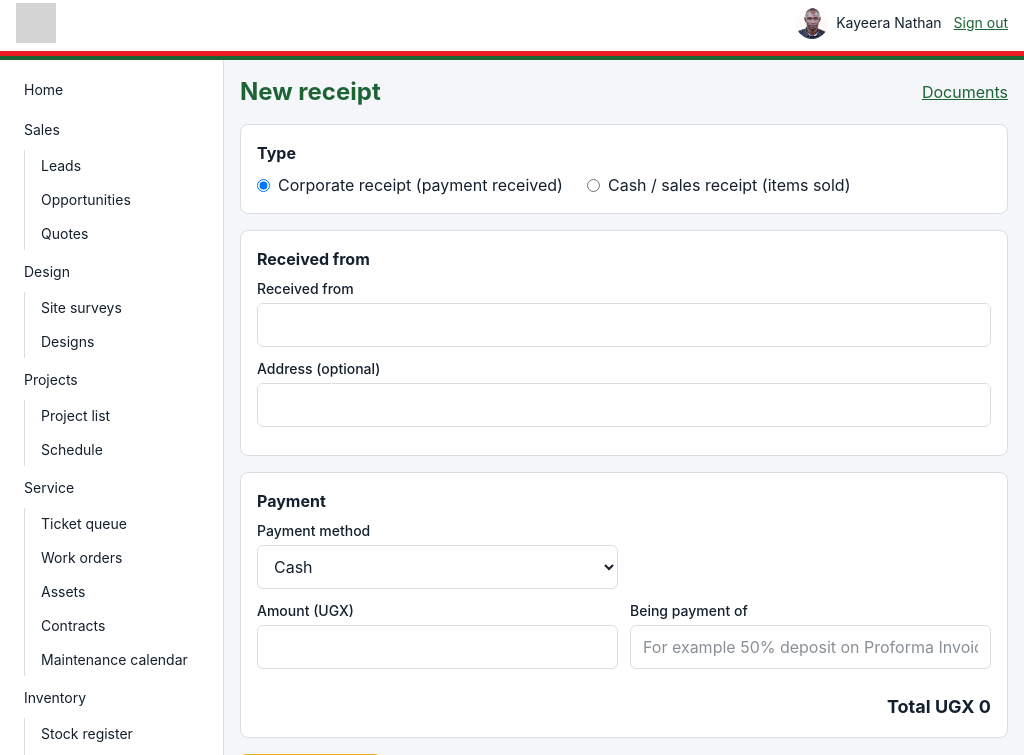
receipts › issues a cash / sales receipt with item lines and the disclaimer
Type "Walk-in customer" into the field labelled "Received from" at (624,325), box [257,303,991,347]
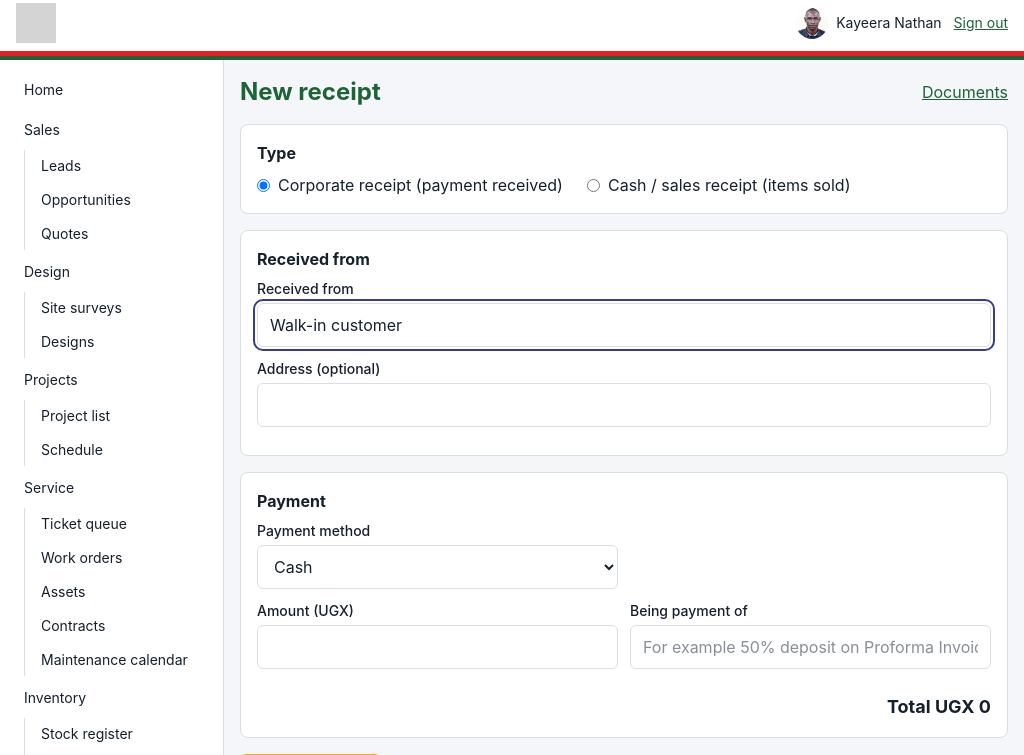
Click the radio button labelled "Cash / sales receipt (items sold)" at (594,185), box [587,178,600,192]
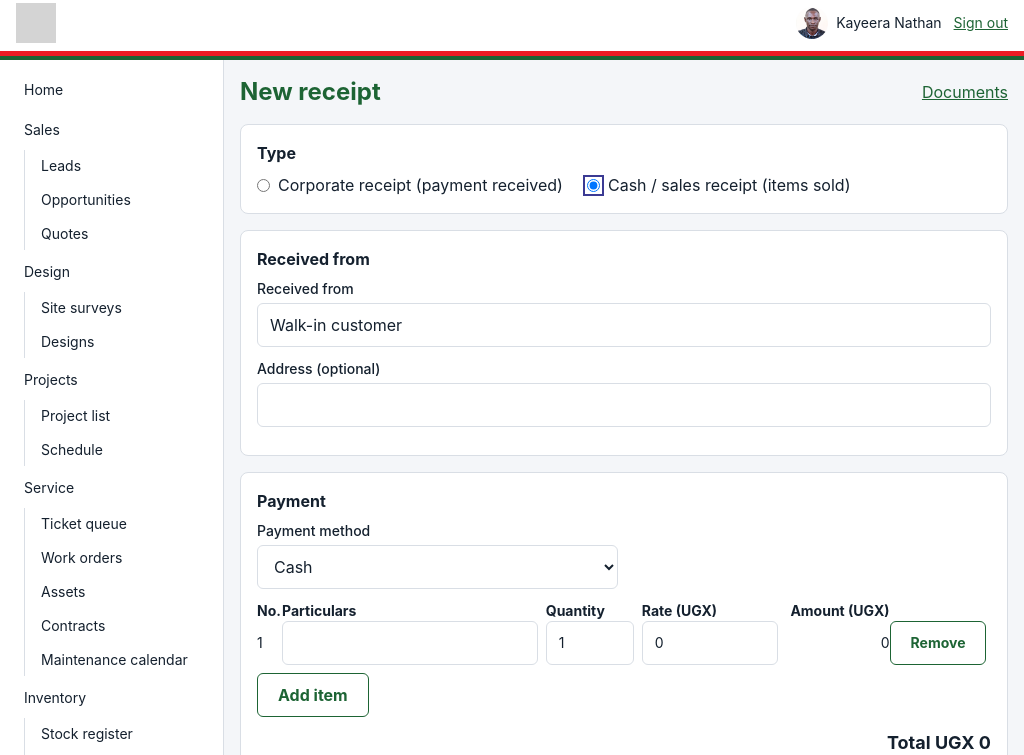
Type "MC4 connector pairs" into the field named "Item 1 particulars" at (410,643), box [282,621,538,665]
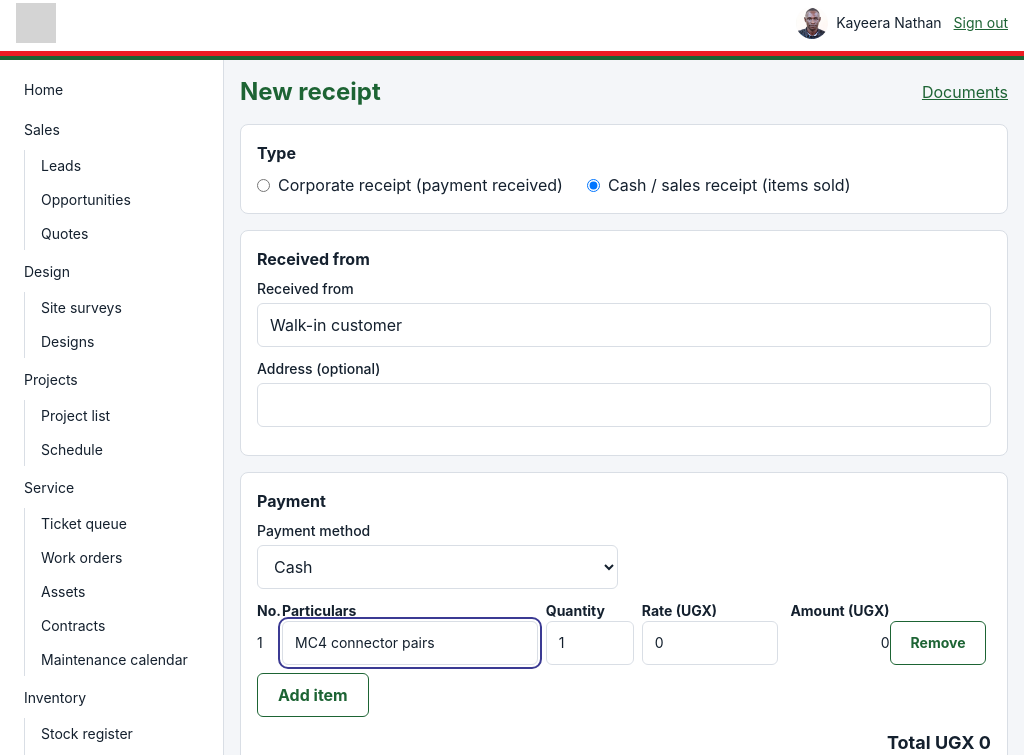
Replace the text in the number field named "Item 1 quantity" with "2" at (590,643), box [546,621,634,665]
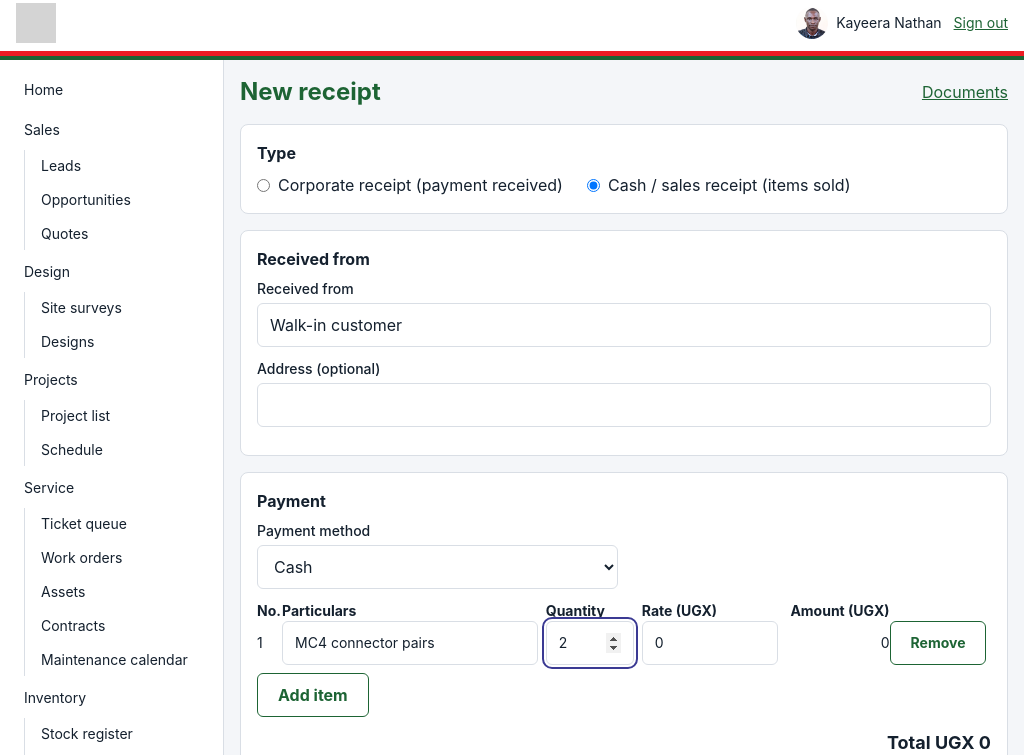
Replace the text in the number field named "Item 1 rate" with "15000" at (710,643), box [642,621,778,665]
(page scrolled)
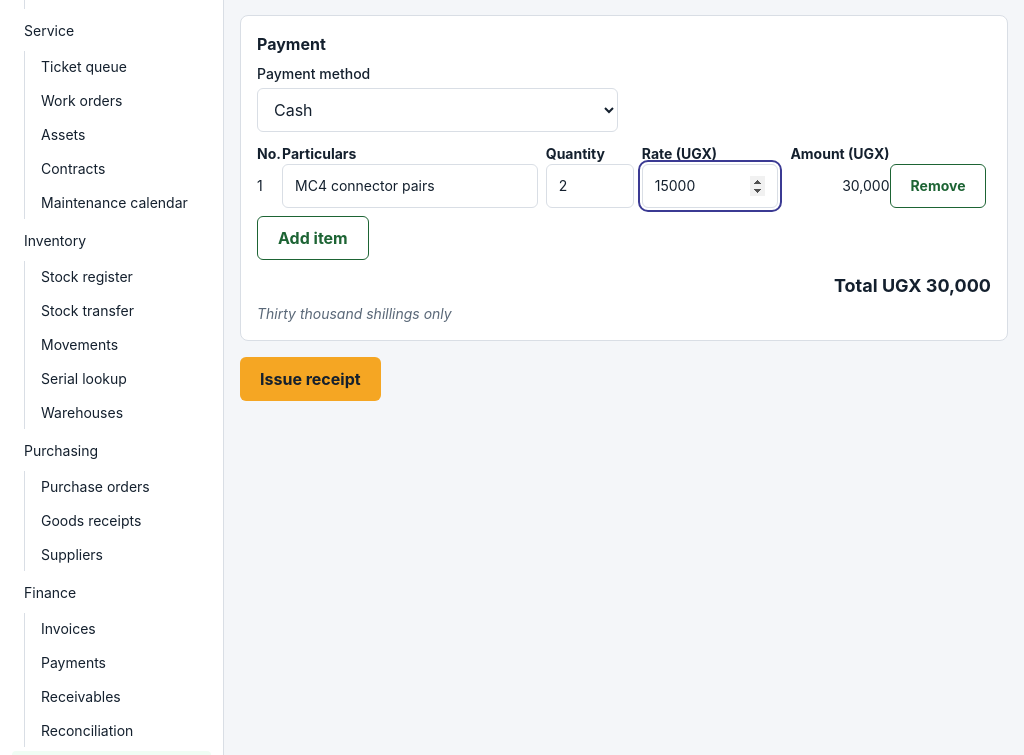
expect the text "Total UGX 30,000" is shown: met, box [834,275,991,296]
Click the button "Issue receipt" at (310,379), box [240,357,381,401]
(page scrolled)
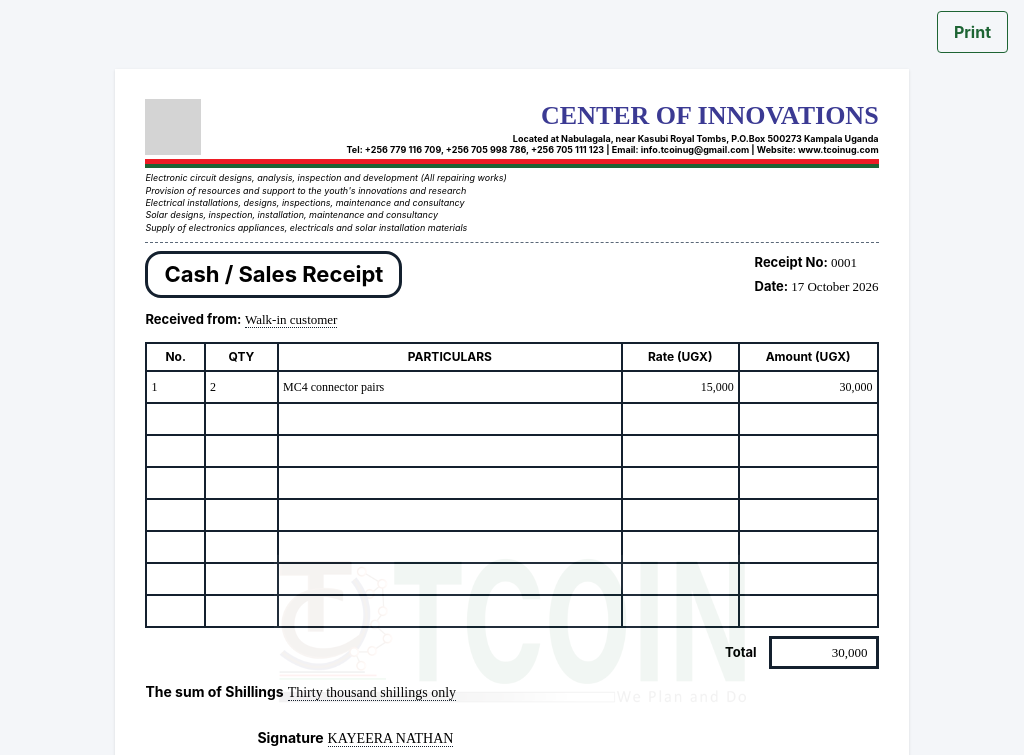
expect the text "Cash / Sales Receipt" is shown: met, box [145,251,402,298]
expect the text "Thirty thousand shillings only" is shown: met, box [288,685,456,701]
expect the text "MC4 connector pairs" is shown: met, box [278,371,622,403]
